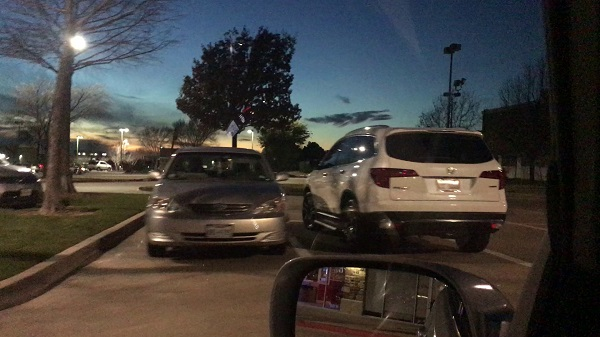car: (300, 127, 508, 251), (147, 149, 290, 254)
